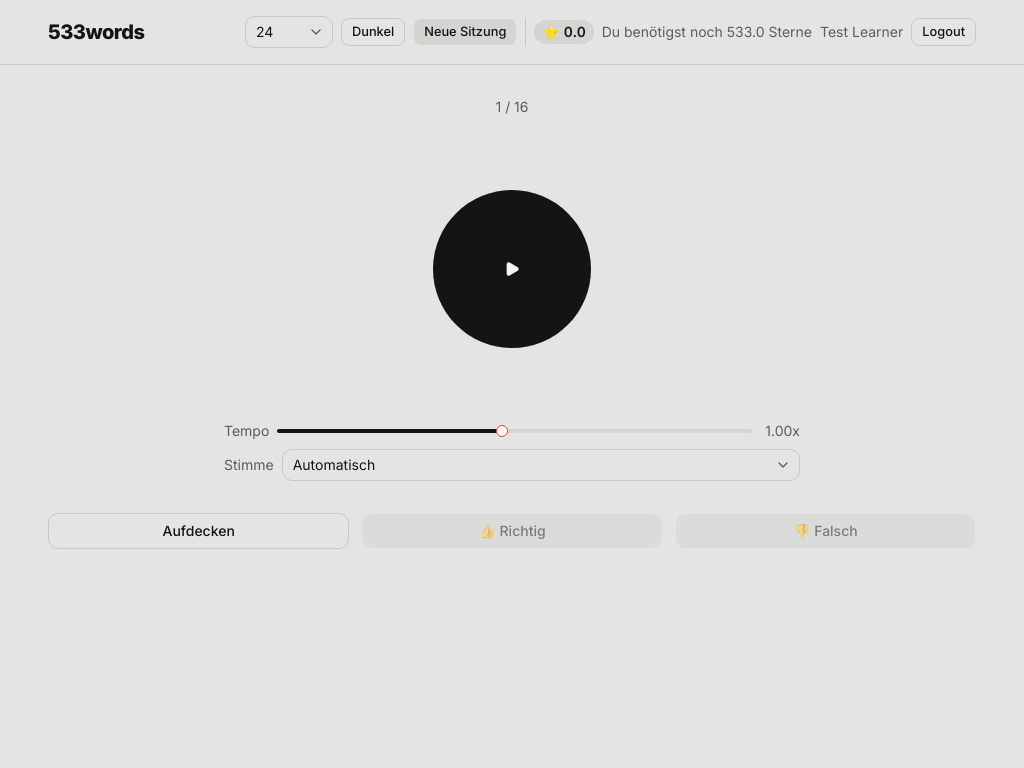
Home practice screen › session-progress indicator › shows 2 / 16 after one word has been flagged
Expected: the button named "abspielen" is shown, x1=432 y1=189 x2=592 y2=349
Click the button "Aufdecken" at [199, 531], box x1=48 y1=513 x2=349 y2=549
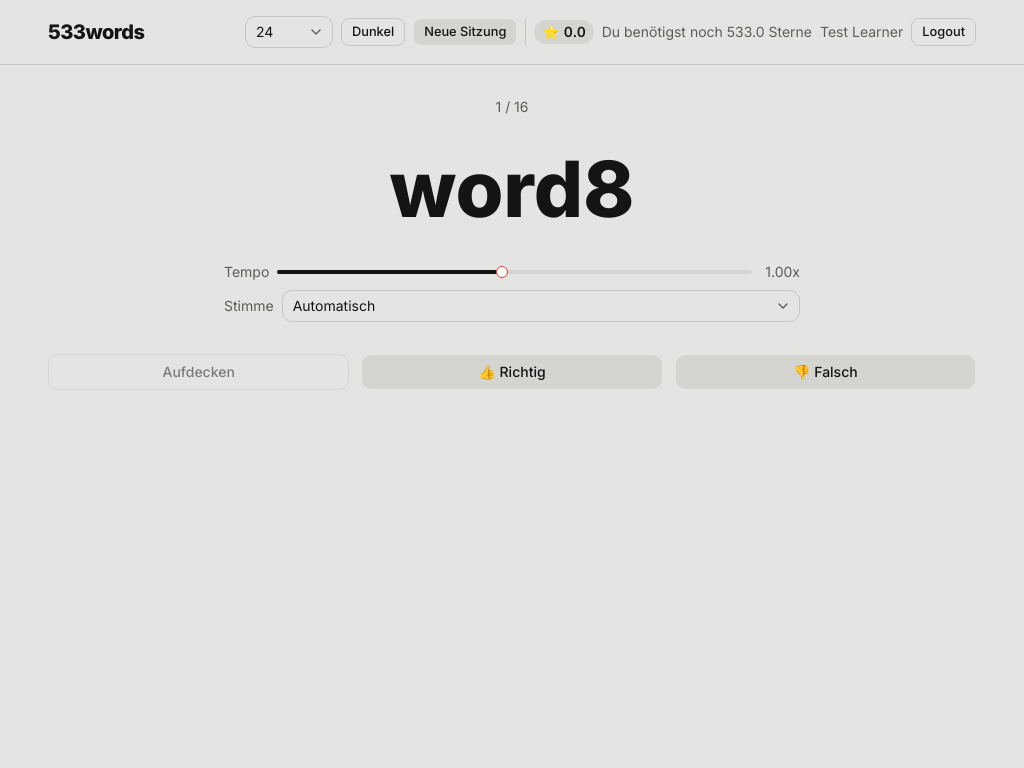
Click the button "👍 Richtig" at [512, 372], box x1=361 y1=354 x2=663 y2=390
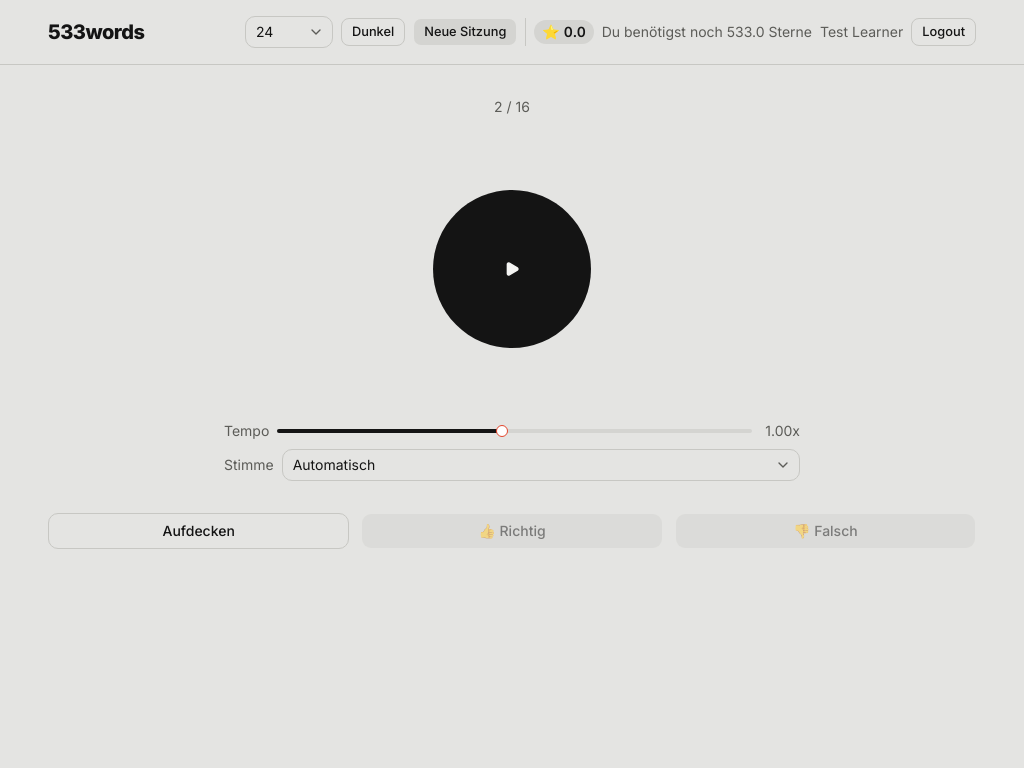
Result: the text "2 / 16" is shown at x1=494 y1=97 x2=530 y2=117
